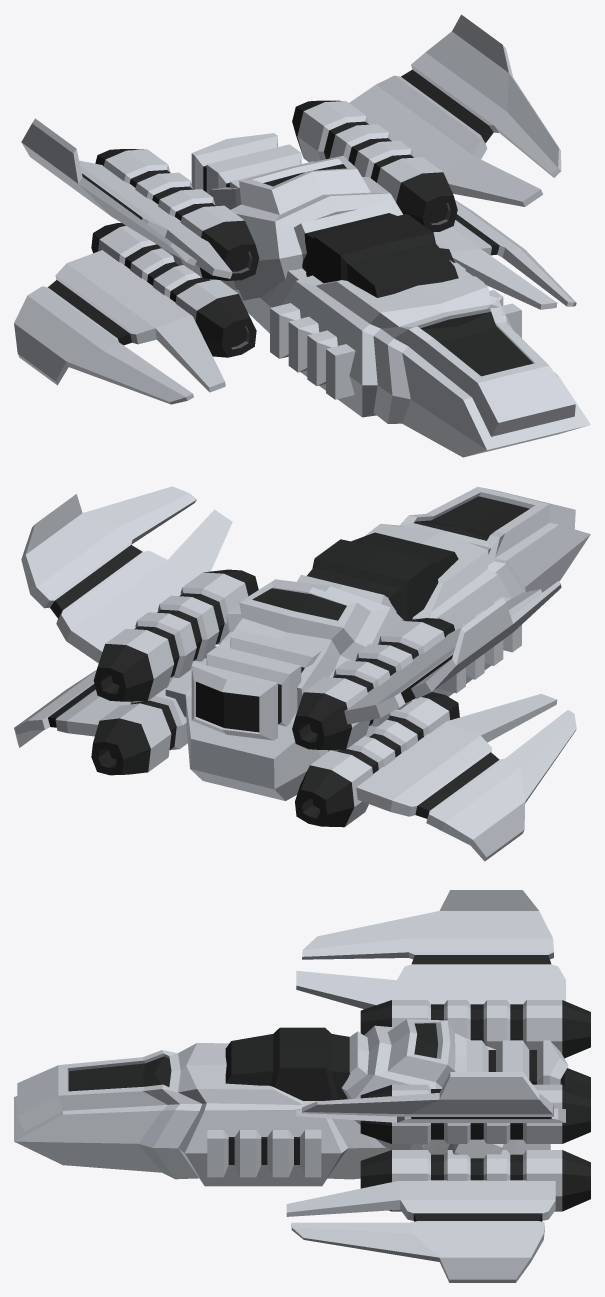
File: Navesita3.fbx
3 views of the same model, one above another, from view 1: azimuth 30°, elevation 25°; view 2: azimuth 150°, elevation 25°; view 3: azimuth 270°, elevation 25° (orthographic). The views are drawn at different scales.
Parts seen in each view (by area): view 1: Cube; view 2: Cube; view 3: Cube.
Part boxes in pixels (bbox=[...]): Cube: bbox=[14, 14, 590, 457]; Cube: bbox=[14, 486, 590, 861]; Cube: bbox=[14, 890, 590, 1282].
Bounding box in the file's own units: 828 × 391 × 1008.
